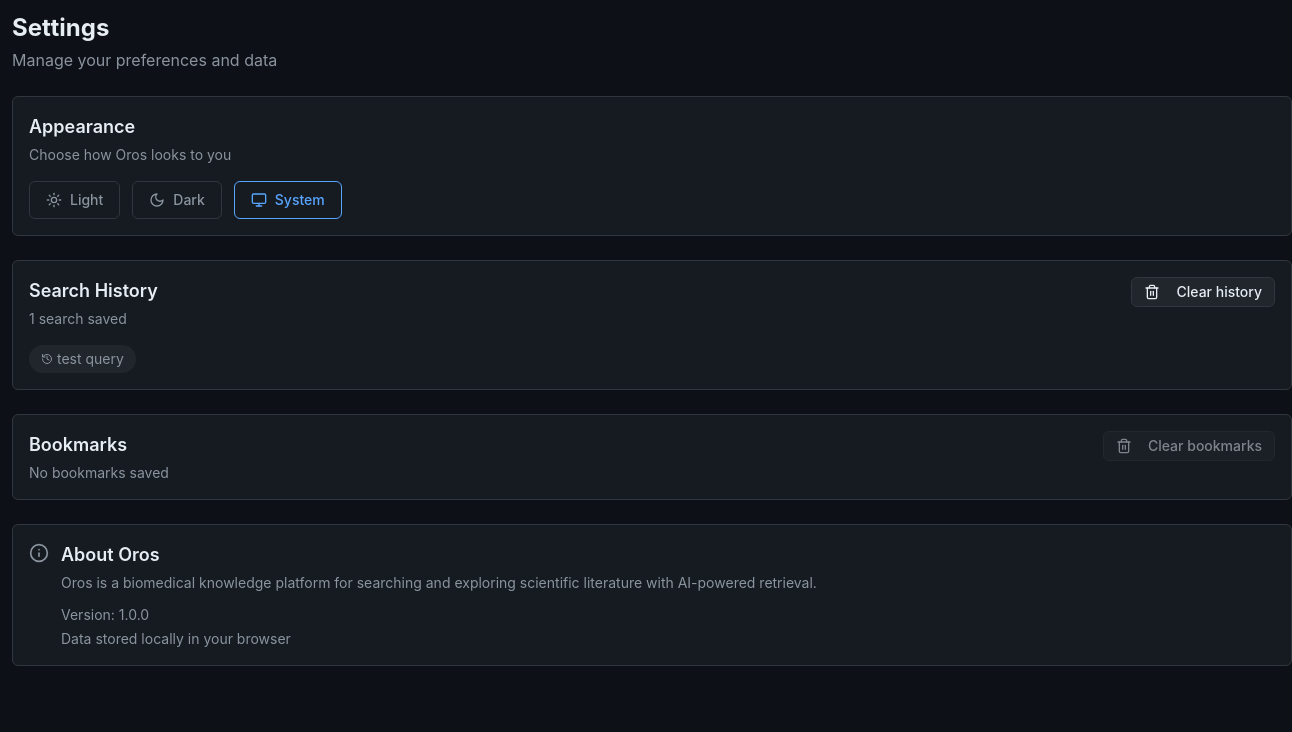
Test case: Settings Page › clears search history when clicking clear button
What coordinates should you click on to do the following:
click the button "Clear history"
I would click on:
 (1203, 292)
Its box is x1=1132 y1=277 x2=1275 y2=307.
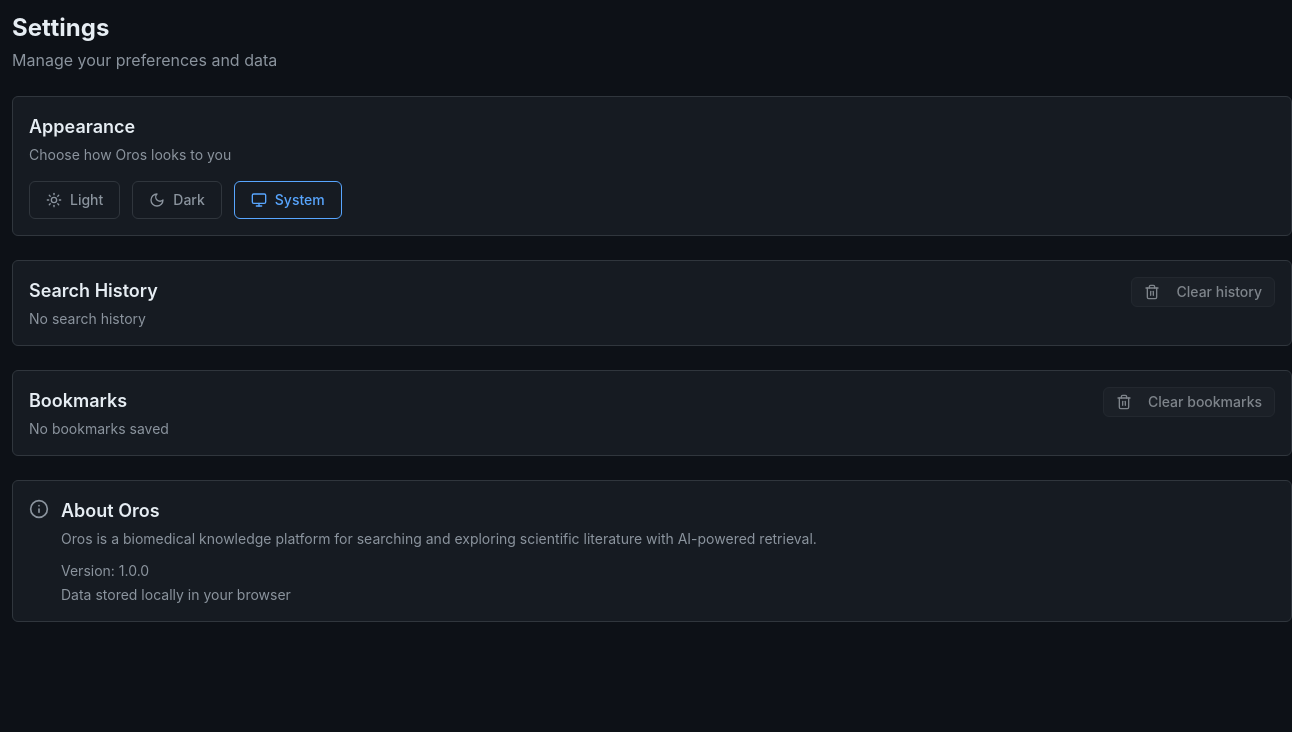
Check: the text "No search history" is shown, box x1=29 y1=309 x2=158 y2=329
